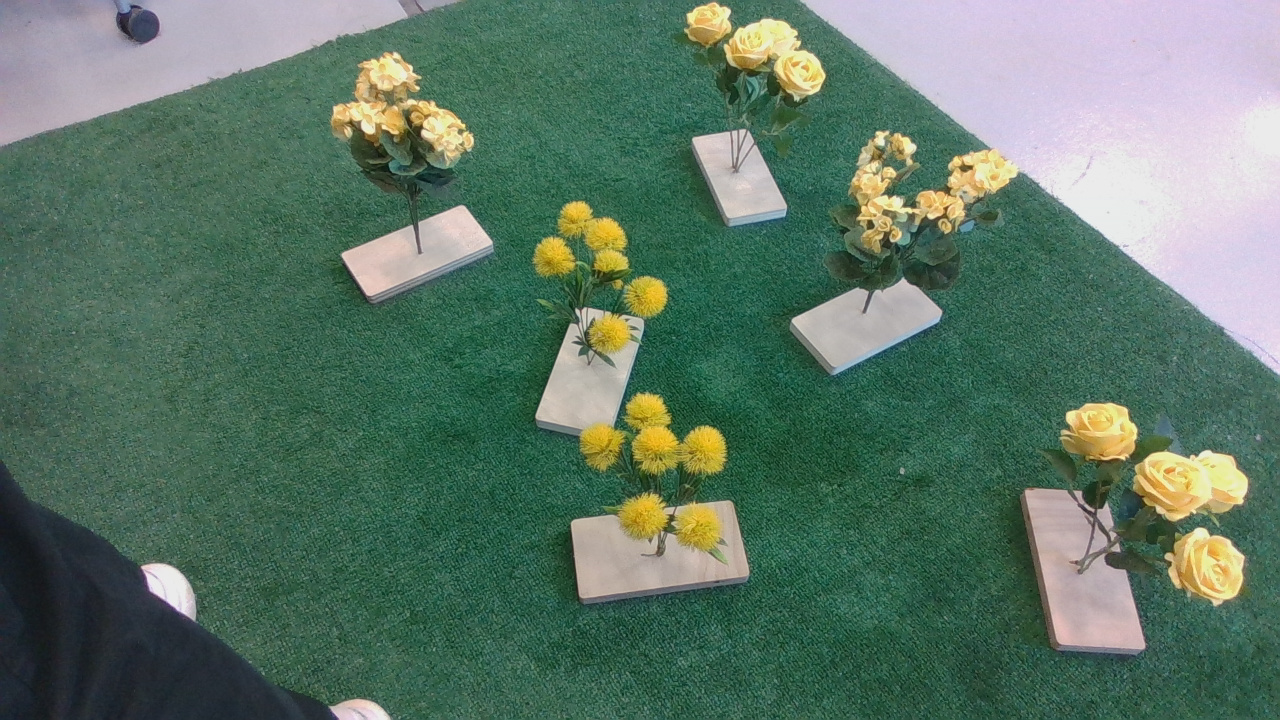dandelion: (579, 392, 759, 575), (525, 200, 709, 361)
geranium: (820, 128, 1035, 301), (333, 39, 490, 204)
rose: (1028, 392, 1263, 615), (659, 4, 835, 153)
